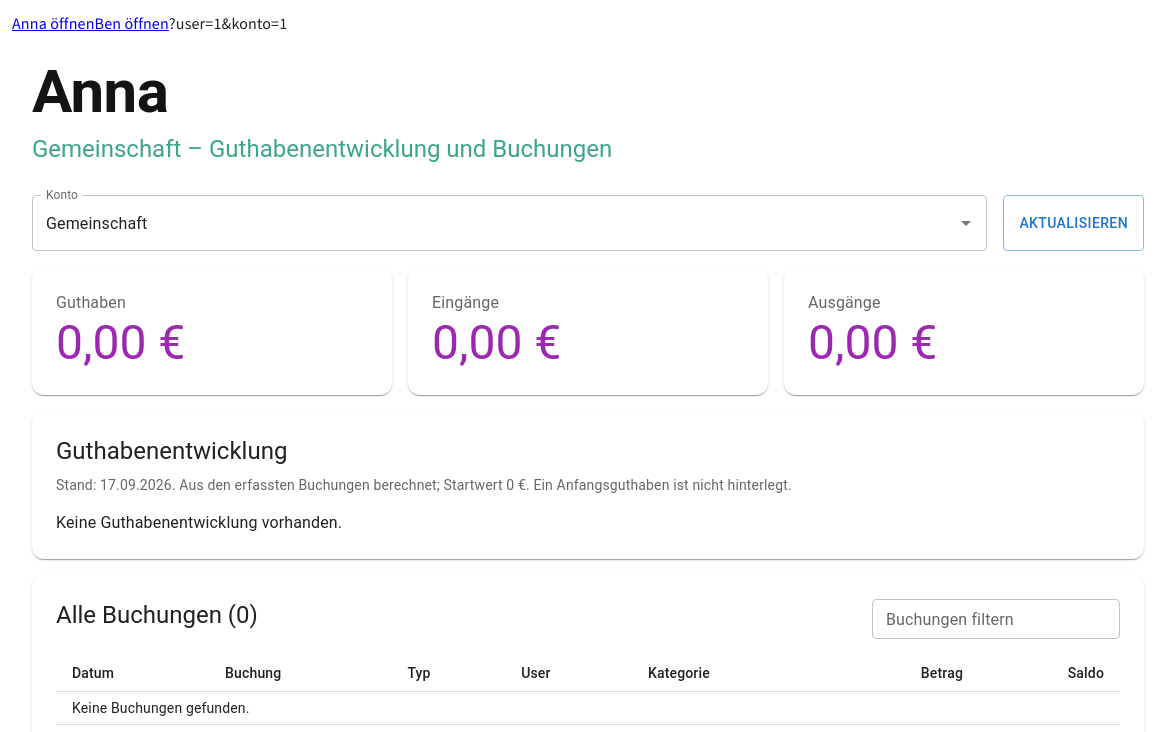
Test: account selection retains the user, and changing user resets an unassigned account
Expected: the table named "Kontobuchungen" is shown, [56,656,1120,726]
Press the mouse on the dropdown labelled "Konto" at (495, 223), box [41,204,948,242]
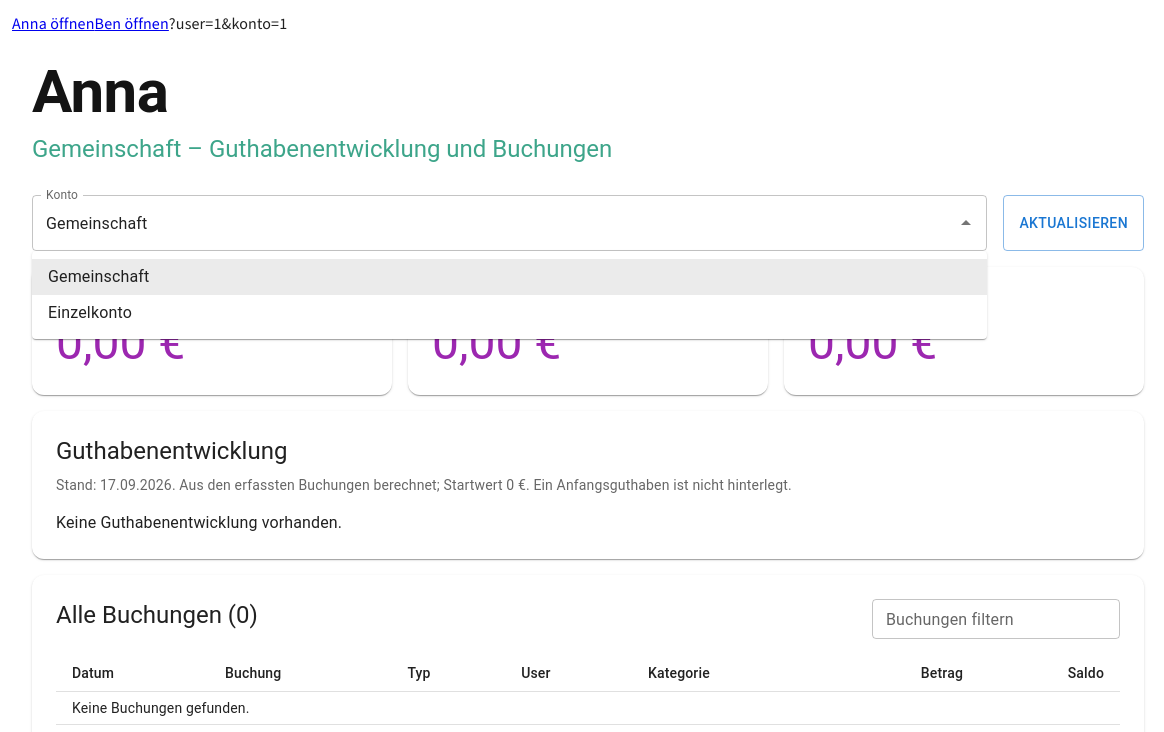
Click the option "Einzelkonto" at (90, 312), box [48,303,132,322]
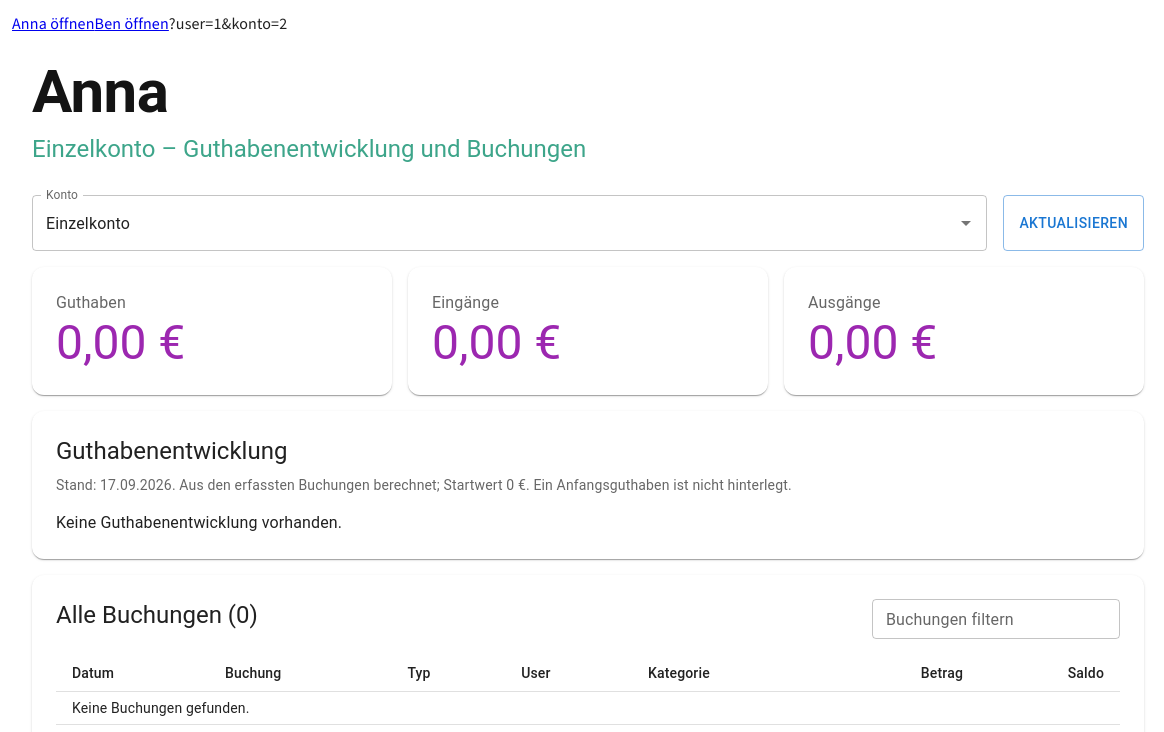
Expected: the text with test id "location" reads "?user=1&konto=2", [169,13,287,34]
Click the link "Ben öffnen" at (132, 24), box [95,13,169,34]
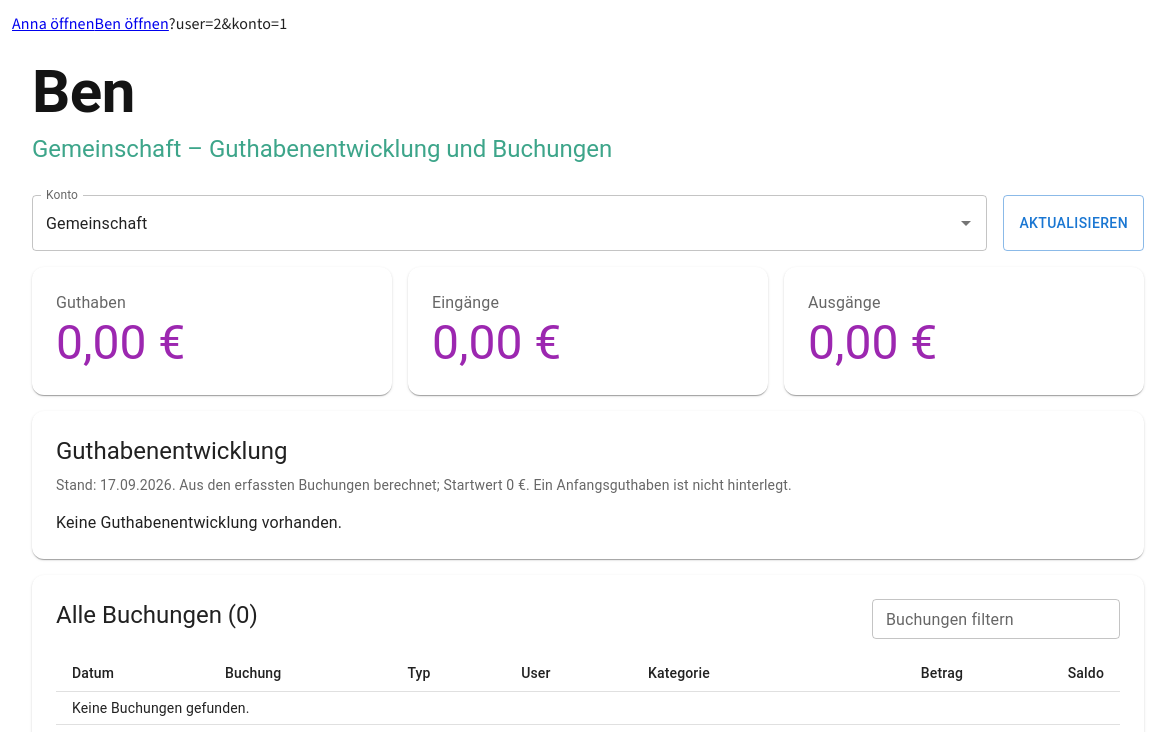
Expected: the text with test id "location" reads "?user=2&konto=1", [169,13,287,34]
Expected: the dropdown labelled "Konto" holds "Gemeinschaft", [41,204,948,242]
